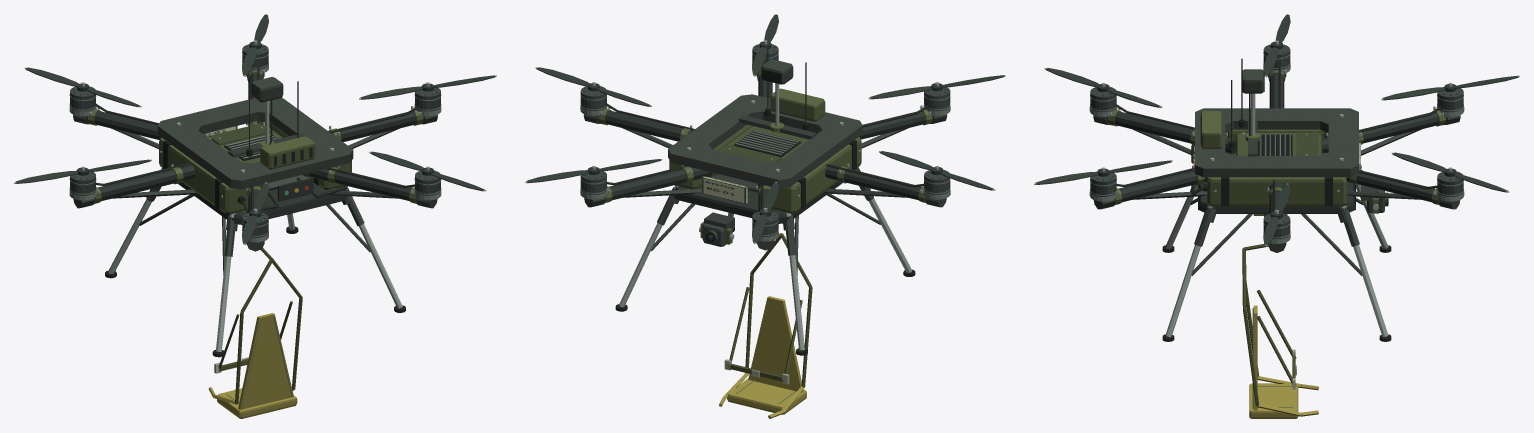
The picture shows the model from 3 angles, left to right: view 1: azimuth 30°, elevation 25°; view 2: azimuth 150°, elevation 25°; view 3: azimuth 270°, elevation 25°; orthographic projection.
Visible parts, largest first — view 1: rescue_drone_rd01; view 2: rescue_drone_rd01; view 3: rescue_drone_rd01.
Boxes of the visible parts, bbox=[...] form: rescue_drone_rd01: bbox=[14, 14, 496, 418]; rescue_drone_rd01: bbox=[525, 14, 1005, 418]; rescue_drone_rd01: bbox=[1034, 14, 1519, 418].
Bounding box in the file's own units: 5.3 × 3.57 × 4.7.
